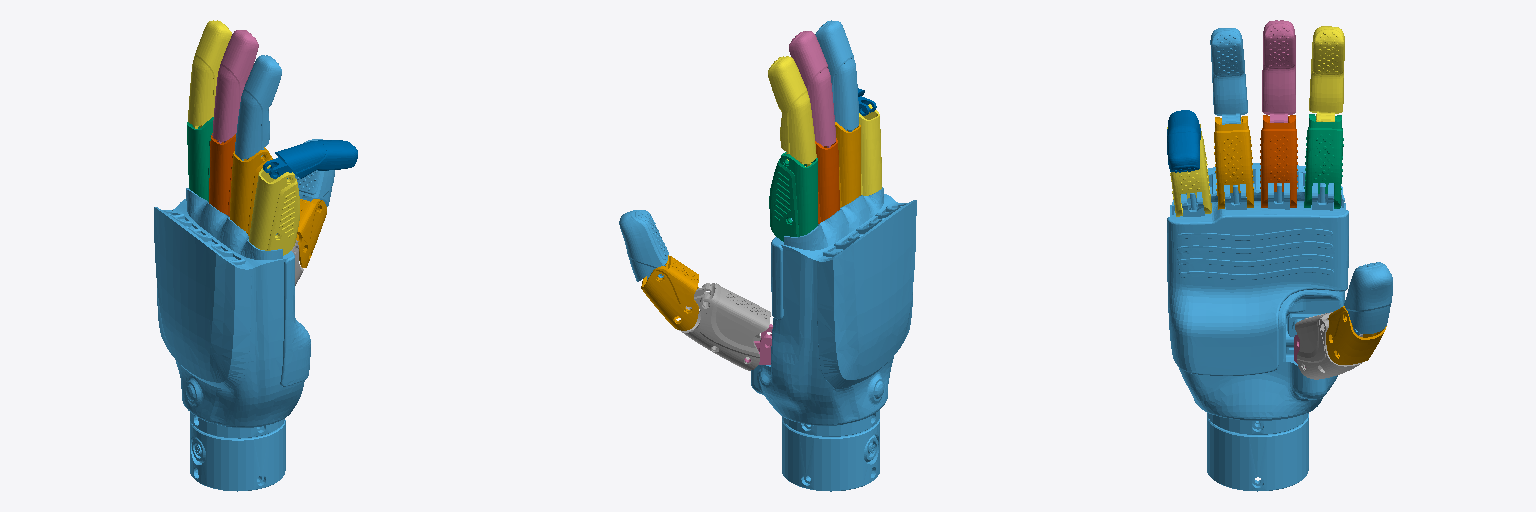
URDF robot description (inspire_hand_right):
<?xml version="1.0" encoding="UTF-8"?>
<robot name="inspire_hand_right">
  <!-- Extracted from franka_inspire_combined.urdf: Inspire hand only. -->
  <!-- ======================== -->
  <!-- Inspire Hand (joints)    -->
  <!-- ======================== -->
  <joint name="base_joint" type="fixed">
    <origin xyz="0. 0. 0.09" rpy="1.57 -0. -1.57"/>
    <parent link="inspire_hand_base"/>
    <child link="hand_base_link"/>
  </joint>
  <joint name="right_index_1_joint" type="revolute">
    <origin xyz="-0.040005 0.064623 -0.00345 " rpy="-1.5369525 -1.5707927 -3.1405327"/>
    <parent link="hand_base_link"/>
    <child link="right_index_1"/>
    <axis xyz="0. 1. 0."/>
    <limit lower="0." upper="1.47" effort="6." velocity="8.0000001"/>
  </joint>
  <joint name="right_index_2_joint" type="revolute">
    <origin xyz="-0.0016312 -0.00055 -0.032734 " rpy="0. 0. 0."/>
    <parent link="right_index_1"/>
    <child link="right_index_2"/>
    <axis xyz="0. 1. 0."/>
    <limit lower="0." upper="1.5435" effort="6." velocity="8.0000001"/>
    <mimic joint="right_index_1_joint" multiplier="1.05" offset="0.0"/>
  </joint>
  <joint name="index_tip_joint" type="fixed">
    <origin xyz="0. -0.006 -0.053575" rpy="0. 0. 0."/>
    <parent link="right_index_2"/>
    <child link="index_tip"/>
  </joint>
  <joint name="right_middle_1_joint" type="revolute">
    <origin xyz="-0.018426 0.065223 -0.00345 " rpy="-1.5544026 -1.5707927 3.1252024"/>
    <parent link="hand_base_link"/>
    <child link="right_middle_1"/>
    <axis xyz="0. 1. 0."/>
    <limit lower="0." upper="1.47" effort="6." velocity="8.0000001"/>
  </joint>
  <joint name="right_middle_2_joint" type="revolute">
    <origin xyz="-0.0028436 -0.00055 -0.032651 " rpy="0. 0. 0."/>
    <parent link="right_middle_1"/>
    <child link="right_middle_2"/>
    <axis xyz="0. 1. 0."/>
    <limit lower="0." upper="1.5435" effort="6." velocity="8.0000001"/>
    <mimic joint="right_middle_1_joint" multiplier="1.05" offset="0.0"/>
  </joint>
  <joint name="middle_tip_joint" type="fixed">
    <origin xyz="0. -0.006 -0.0572" rpy="0. 0. 0."/>
    <parent link="right_middle_2"/>
    <child link="middle_tip"/>
  </joint>
  <joint name="right_ring_1_joint" type="revolute">
    <origin xyz="0.0032044 0.065057 -0.00345 " rpy="-1.6217828 -1.5707927 3.1401827"/>
    <parent link="hand_base_link"/>
    <child link="right_ring_1"/>
    <axis xyz="0. 1. 0."/>
    <limit lower="0." upper="1.47" effort="6." velocity="8.0000001"/>
  </joint>
  <joint name="right_ring_2_joint" type="revolute">
    <origin xyz="-0.0031431 -0.00055 -0.032624 " rpy="0. 0. 0."/>
    <parent link="right_ring_1"/>
    <child link="right_ring_2"/>
    <axis xyz="0. 1. 0."/>
    <limit lower="0." upper="1.5435" effort="6." velocity="8.0000001"/>
    <mimic joint="right_ring_1_joint" multiplier="1.05" offset="0.0"/>
  </joint>
  <joint name="ring_tip_joint" type="fixed">
    <origin xyz="0. -0.006 -0.05365" rpy="0. 0. 0."/>
    <parent link="right_ring_2"/>
    <child link="ring_tip"/>
  </joint>
  <joint name="right_little_1_joint" type="revolute">
    <origin xyz="0.02459 0.061875 -0.00345 " rpy="-1.6722852 -1.5707927 3.1383853"/>
    <parent link="hand_base_link"/>
    <child link="right_little_1"/>
    <axis xyz="0. 1. 0."/>
    <limit lower="0." upper="1.47" effort="6." velocity="8.0000001"/>
  </joint>
  <joint name="right_little_2_joint" type="revolute">
    <origin xyz="-0.005182 -0.00055 -0.032363" rpy="0. 0.0000036 0."/>
    <parent link="right_little_1"/>
    <child link="right_little_2"/>
    <axis xyz="0. 1. 0."/>
    <limit lower="0." upper="1.5435" effort="6." velocity="8.0000001"/>
    <mimic joint="right_little_1_joint" multiplier="1.05" offset="0.0"/>
  </joint>
  <joint name="little_tip_joint" type="fixed">
    <origin xyz="0.0045 -0.006 -0.04365" rpy="0. 1.5707963 0."/>
    <parent link="right_little_2"/>
    <child link="little_tip"/>
  </joint>
  <joint name="right_thumb_1_joint" type="revolute">
    <origin xyz="-0.028226 -0.0227776 -0.0239 " rpy="0. 0. 0."/>
    <parent link="hand_base_link"/>
    <child link="right_thumb_1"/>
    <axis xyz="0. 1. 0."/>
    <limit lower="-1.2" upper="-0.3" effort="6." velocity="8.0000001"/>
  </joint>
  <joint name="right_thumb_2_joint" type="revolute">
    <origin xyz="-0.0063016 0.003 -0.011924 " rpy="-1.5707928 0.3490927 3.1065927"/>
    <parent link="right_thumb_1"/>
    <child link="right_thumb_2"/>
    <axis xyz="0. 1. 0."/>
    <limit lower="0.14" upper="0.56" effort="6." velocity="8.0000001"/>
  </joint>
  <joint name="right_thumb_3_joint" type="revolute">
    <origin xyz="0.038292 -0.0015 -0.014535" rpy="0. -0.25 0."/>
    <parent link="right_thumb_2"/>
    <child link="right_thumb_3"/>
    <axis xyz="0. 1. 0."/>
    <limit lower="0.056" upper="0.224" effort="6." velocity="8.0000001"/>
    <mimic joint="right_thumb_2_joint" multiplier="0.4" offset="0.0"/>
  </joint>
  <joint name="right_thumb_4_joint" type="revolute">
    <origin xyz="0.018189 -0.0002 -0.012576" rpy="0. -0.15 0."/>
    <parent link="right_thumb_3"/>
    <child link="right_thumb_4"/>
    <axis xyz="0. 1. 0."/>
    <limit lower="0.084" upper="0.336" effort="6." velocity="8.0000001"/>
    <mimic joint="right_thumb_2_joint" multiplier="0.6" offset="0.0"/>
  </joint>
  <joint name="thumb_tip_joint" type="fixed">
    <origin xyz="0.0268 -0.007 -0.023 " rpy="0. 0. 0."/>
    <parent link="right_thumb_4"/>
    <child link="thumb_tip"/>
  </joint>
  <!-- ======================== -->
  <!-- Inspire Hand (links)     -->
  <!-- ======================== -->
  <link name="inspire_hand_base"/>
  <link name="hand_base_link">
    <inertial>
      <origin xyz="0. 0. 0." rpy="0. 0. 0."/>
      <mass value="0.2"/>
      <inertia ixx="0." ixy="0." ixz="0." iyy="0." iyz="0." izz="0."/>
    </inertial>
    <visual>
      <origin xyz="0. 0. 0." rpy="0. 0. 0."/>
      <geometry>
        <mesh filename="./meshes/hand_base_link_visuals.obj" scale="1. 1. 1."/>
      </geometry>
    </visual>
    <visual>
      <origin xyz="0. 0. 0." rpy="0. 0. 0."/>
      <geometry>
        <mesh filename="./meshes/hand_base_link_collisions.obj" scale="1. 1. 1."/>
      </geometry>
    </visual>
    <collision>
      <origin xyz="0. 0. 0." rpy="0. 0. 0."/>
      <geometry>
        <mesh filename="./meshes/hand_base_link_collisions.obj" scale="1. 1. 1."/>
      </geometry>
    </collision>
  </link>
  <link name="right_index_1">
    <inertial>
      <origin xyz="0. 0. 0." rpy="0. 0. 0."/>
      <mass value="0.0063589"/>
      <inertia ixx="0." ixy="0." ixz="0." iyy="0." iyz="0." izz="0."/>
    </inertial>
    <visual>
      <origin xyz="0. 0. 0." rpy="0. 0. 0."/>
      <geometry>
        <mesh filename="./meshes/right_index_1_visuals.obj" scale="1. 1. 1."/>
      </geometry>
    </visual>
    <visual>
      <origin xyz="0. 0. 0." rpy="0. 0. 0."/>
      <geometry>
        <mesh filename="./meshes/right_index_1_collisions.obj" scale="1. 1. 1."/>
      </geometry>
    </visual>
    <collision>
      <origin xyz="0. 0. 0." rpy="0. 0. 0."/>
      <geometry>
        <mesh filename="./meshes/right_index_1_collisions.obj" scale="1. 1. 1."/>
      </geometry>
    </collision>
  </link>
  <link name="right_index_2">
    <inertial>
      <origin xyz="0. 0. 0." rpy="0. 0. 0."/>
      <mass value="0.00645"/>
      <inertia ixx="0." ixy="0." ixz="0." iyy="0." iyz="0." izz="0."/>
    </inertial>
    <visual>
      <origin xyz="0. 0. 0." rpy="0. 0. 0."/>
      <geometry>
        <mesh filename="./meshes/right_index_2_visuals.obj" scale="1. 1. 1."/>
      </geometry>
    </visual>
    <visual>
      <origin xyz="0. 0. 0." rpy="0. 0. 0."/>
      <geometry>
        <mesh filename="./meshes/right_index_2_collisions.obj" scale="1. 1. 1."/>
      </geometry>
    </visual>
    <collision>
      <origin xyz="0. 0. 0." rpy="0. 0. 0."/>
      <geometry>
        <mesh filename="./meshes/right_index_2_collisions.obj" scale="1. 1. 1."/>
      </geometry>
    </collision>
  </link>
  <link name="index_tip">
    <inertial>
      <origin xyz="0. 0. 0." rpy="0. 0. 0."/>
      <mass value="0.000001"/>
      <inertia ixx="0." ixy="0." ixz="0." iyy="0." iyz="0." izz="0."/>
    </inertial>
  </link>
  <link name="right_middle_1">
    <inertial>
      <origin xyz="0. 0. 0." rpy="0. 0. 0."/>
      <mass value="0.0063589"/>
      <inertia ixx="0." ixy="0." ixz="0." iyy="0." iyz="0." izz="0."/>
    </inertial>
    <visual>
      <origin xyz="0. 0. 0." rpy="0. 0. 0."/>
      <geometry>
        <mesh filename="./meshes/right_middle_1_visuals.obj" scale="1. 1. 1."/>
      </geometry>
    </visual>
    <visual>
      <origin xyz="0. 0. 0." rpy="0. 0. 0."/>
      <geometry>
        <mesh filename="./meshes/right_middle_1_collisions.obj" scale="1. 1. 1."/>
      </geometry>
    </visual>
    <collision>
      <origin xyz="0. 0. 0." rpy="0. 0. 0."/>
      <geometry>
        <mesh filename="./meshes/right_middle_1_collisions.obj" scale="1. 1. 1."/>
      </geometry>
    </collision>
  </link>
  <link name="right_middle_2">
    <inertial>
      <origin xyz="0. 0. 0." rpy="0. 0. 0."/>
      <mass value="0.00645"/>
      <inertia ixx="0." ixy="0." ixz="0." iyy="0." iyz="0." izz="0."/>
    </inertial>
    <visual>
      <origin xyz="0. 0. 0." rpy="0. 0. 0."/>
      <geometry>
        <mesh filename="./meshes/right_middle_2_visuals.obj" scale="1. 1. 1."/>
      </geometry>
    </visual>
    <visual>
      <origin xyz="0. 0. 0." rpy="0. 0. 0."/>
      <geometry>
        <mesh filename="./meshes/right_middle_2_collisions.obj" scale="1. 1. 1."/>
      </geometry>
    </visual>
    <collision>
      <origin xyz="0. 0. 0." rpy="0. 0. 0."/>
      <geometry>
        <mesh filename="./meshes/right_middle_2_collisions.obj" scale="1. 1. 1."/>
      </geometry>
    </collision>
  </link>
  <link name="middle_tip">
    <inertial>
      <origin xyz="0. 0. 0." rpy="0. 0. 0."/>
      <mass value="0.000001"/>
      <inertia ixx="0." ixy="0." ixz="0." iyy="0." iyz="0." izz="0."/>
    </inertial>
  </link>
  <link name="right_ring_1">
    <inertial>
      <origin xyz="0. 0. 0." rpy="0. 0. 0."/>
      <mass value="0.0063589"/>
      <inertia ixx="0." ixy="0." ixz="0." iyy="0." iyz="0." izz="0."/>
    </inertial>
    <visual>
      <origin xyz="0. 0. 0." rpy="0. 0. 0."/>
      <geometry>
        <mesh filename="./meshes/right_ring_1_visuals.obj" scale="1. 1. 1."/>
      </geometry>
    </visual>
    <visual>
      <origin xyz="0. 0. 0." rpy="0. 0. 0."/>
      <geometry>
        <mesh filename="./meshes/right_ring_1_collisions.obj" scale="1. 1. 1."/>
      </geometry>
    </visual>
    <collision>
      <origin xyz="0. 0. 0." rpy="0. 0. 0."/>
      <geometry>
        <mesh filename="./meshes/right_ring_1_collisions.obj" scale="1. 1. 1."/>
      </geometry>
    </collision>
  </link>
  <link name="right_ring_2">
    <inertial>
      <origin xyz="0. 0. 0." rpy="0. 0. 0."/>
      <mass value="0.00645"/>
      <inertia ixx="0." ixy="0." ixz="0." iyy="0." iyz="0." izz="0."/>
    </inertial>
    <visual>
      <origin xyz="0. 0. 0." rpy="0. 0. 0."/>
      <geometry>
        <mesh filename="./meshes/right_ring_2_visuals.obj" scale="1. 1. 1."/>
      </geometry>
    </visual>
    <visual>
      <origin xyz="0. 0. 0." rpy="0. 0. 0."/>
      <geometry>
        <mesh filename="./meshes/right_ring_2_collisions.obj" scale="1. 1. 1."/>
      </geometry>
    </visual>
    <collision>
      <origin xyz="0. 0. 0." rpy="0. 0. 0."/>
      <geometry>
        <mesh filename="./meshes/right_ring_2_collisions.obj" scale="1. 1. 1."/>
      </geometry>
    </collision>
  </link>
  <link name="ring_tip">
    <inertial>
      <origin xyz="0. 0. 0." rpy="0. 0. 0."/>
      <mass value="0.000001"/>
      <inertia ixx="0." ixy="0." ixz="0." iyy="0." iyz="0." izz="0."/>
    </inertial>
  </link>
  <link name="right_little_1">
    <inertial>
      <origin xyz="0. 0. 0." rpy="0. 0. 0."/>
      <mass value="0.0063589"/>
      <inertia ixx="0." ixy="0." ixz="0." iyy="0." iyz="0." izz="0."/>
    </inertial>
    <visual>
      <origin xyz="0. 0. 0." rpy="0. 0. 0."/>
      <geometry>
        <mesh filename="./meshes/right_little_1_visuals.obj" scale="1. 1. 1."/>
      </geometry>
    </visual>
    <visual>
      <origin xyz="0. 0. 0." rpy="0. 0. 0."/>
      <geometry>
        <mesh filename="./meshes/right_little_1_collisions.obj" scale="1. 1. 1."/>
      </geometry>
    </visual>
    <collision>
      <origin xyz="0. 0. 0." rpy="0. 0. 0."/>
      <geometry>
        <mesh filename="./meshes/right_little_1_collisions.obj" scale="1. 1. 1."/>
      </geometry>
    </collision>
  </link>
  <link name="right_little_2">
    <inertial>
      <origin xyz="0. 0. 0." rpy="0. 1.5707963 0."/>
      <mass value="0.00645"/>
      <inertia ixx="0." ixy="0." ixz="0." iyy="0." iyz="0." izz="0."/>
    </inertial>
    <visual>
      <origin xyz="0. 0. 0." rpy="0. 1.5707963 0."/>
      <geometry>
        <mesh filename="./meshes/right_little_2_visuals.obj" scale="1. 1. 1."/>
      </geometry>
    </visual>
    <visual>
      <origin xyz="0. 0. 0." rpy="0. 1.5707963 0."/>
      <geometry>
        <mesh filename="./meshes/right_little_2_collisions.obj" scale="1. 1. 1."/>
      </geometry>
    </visual>
    <collision>
      <origin xyz="0. 0. 0." rpy="0. 1.5707963 0."/>
      <geometry>
        <mesh filename="./meshes/right_little_2_collisions.obj" scale="1. 1. 1."/>
      </geometry>
    </collision>
  </link>
  <link name="little_tip">
    <inertial>
      <origin xyz="0. 0. 0." rpy="0. 0. 0."/>
      <mass value="0.000001"/>
      <inertia ixx="0." ixy="0." ixz="0." iyy="0." iyz="0." izz="0."/>
    </inertial>
  </link>
  <link name="right_thumb_1">
    <inertial>
      <origin xyz="0. 0. 0." rpy="0. 0. 0."/>
      <mass value="0.0026834"/>
      <inertia ixx="0." ixy="0." ixz="0." iyy="0." iyz="0." izz="0."/>
    </inertial>
    <visual>
      <origin xyz="0. 0. 0." rpy="0. 0. 0."/>
      <geometry>
        <mesh filename="./meshes/right_thumb_1_visuals.obj" scale="1. 1. 1."/>
      </geometry>
    </visual>
    <visual>
      <origin xyz="0. 0. 0." rpy="0. 0. 0."/>
      <geometry>
        <mesh filename="./meshes/right_thumb_1_collisions.obj" scale="1. 1. 1."/>
      </geometry>
    </visual>
    <collision>
      <origin xyz="0. 0. 0." rpy="0. 0. 0."/>
      <geometry>
        <mesh filename="./meshes/right_thumb_1_collisions.obj" scale="1. 1. 1."/>
      </geometry>
    </collision>
  </link>
  <link name="right_thumb_2">
    <inertial>
      <origin xyz="0. 0. 0." rpy="0. 0. 0."/>
      <mass value="0.0055"/>
      <inertia ixx="0." ixy="0." ixz="0." iyy="0." iyz="0." izz="0."/>
    </inertial>
    <visual>
      <origin xyz="0. 0. 0." rpy="0. 0. 0."/>
      <geometry>
        <mesh filename="./meshes/right_thumb_2_visuals.obj" scale="1. 1. 1."/>
      </geometry>
    </visual>
    <visual>
      <origin xyz="0. 0. 0." rpy="0. 0. 0."/>
      <geometry>
        <mesh filename="./meshes/right_thumb_2_collisions.obj" scale="1. 1. 1."/>
      </geometry>
    </visual>
    <collision>
      <origin xyz="0. 0. 0." rpy="0. 0. 0."/>
      <geometry>
        <mesh filename="./meshes/right_thumb_2_collisions.obj" scale="1. 1. 1."/>
      </geometry>
    </collision>
  </link>
  <link name="right_thumb_3">
    <inertial>
      <origin xyz="0. 0. 0." rpy="0. 0. 0."/>
      <mass value="0.0055"/>
      <inertia ixx="0." ixy="0." ixz="0." iyy="0." iyz="0." izz="0."/>
    </inertial>
    <visual>
      <origin xyz="0. 0. 0." rpy="0. 0. 0."/>
      <geometry>
        <mesh filename="./meshes/right_thumb_3_visuals.obj" scale="1. 1. 1."/>
      </geometry>
    </visual>
    <visual>
      <origin xyz="0. 0. 0." rpy="0. 0. 0."/>
      <geometry>
        <mesh filename="./meshes/right_thumb_3_collisions.obj" scale="1. 1. 1."/>
      </geometry>
    </visual>
    <collision>
      <origin xyz="0. 0. 0." rpy="0. 0. 0."/>
      <geometry>
        <mesh filename="./meshes/right_thumb_3_collisions.obj" scale="1. 1. 1."/>
      </geometry>
    </collision>
  </link>
  <link name="right_thumb_4">
    <inertial>
      <origin xyz="0. 0. 0." rpy="0. 0. 0."/>
      <mass value="0.0055"/>
      <inertia ixx="0." ixy="0." ixz="0." iyy="0." iyz="0." izz="0."/>
    </inertial>
    <visual>
      <origin xyz="0. 0. 0." rpy="0. 0. 0."/>
      <geometry>
        <mesh filename="./meshes/right_thumb_4_visuals.obj" scale="1. 1. 1."/>
      </geometry>
    </visual>
    <visual>
      <origin xyz="0. 0. 0." rpy="0. 0. 0."/>
      <geometry>
        <mesh filename="./meshes/right_thumb_4_collisions.obj" scale="1. 1. 1."/>
      </geometry>
    </visual>
    <collision>
      <origin xyz="0. 0. 0." rpy="0. 0. 0."/>
      <geometry>
        <mesh filename="./meshes/right_thumb_4_collisions.obj" scale="1. 1. 1."/>
      </geometry>
    </collision>
  </link>
  <link name="thumb_tip">
    <inertial>
      <origin xyz="0. 0. 0." rpy="0. 0. 0."/>
      <mass value="0.000001"/>
      <inertia ixx="0." ixy="0." ixz="0." iyy="0." iyz="0." izz="0."/>
    </inertial>
  </link>
</robot>

--- Facts derived from the render (not from the file) ---
3 views of the same robot in one strip: view 1: azimuth 30°, elevation 25°; view 2: azimuth 150°, elevation 25°; view 3: azimuth 270°, elevation 25° (orthographic).
Model inspire_hand_right with 19 links and 18 joints (12 revolute, 6 fixed), rooted at inspire_hand_base, posed joints at zero except 4 at the middle of their limits (right_thumb_1_joint = -0.75, right_thumb_2_joint = 0.35, right_thumb_3_joint = 0.14, right_thumb_4_joint = 0.21).
Links seen in each view (by area): view 1: hand_base_link, right_little_1, right_ring_2, right_middle_2, right_index_2, right_little_2, right_ring_1, right_middle_1, right_index_1, right_thumb_3, right_thumb_4; view 2: hand_base_link, right_thumb_2, right_index_1, right_index_2, right_middle_2, right_ring_2, right_thumb_3, right_thumb_4, right_ring_1, right_little_1, right_middle_1; view 3: hand_base_link, right_middle_2, right_ring_2, right_index_2, right_thumb_4, right_index_1, right_ring_1, right_middle_1, right_thumb_2, right_thumb_3, right_little_2, right_little_1.
Boxes of the visible links, bbox=[...] form: hand_base_link: bbox=[154, 188, 310, 491]; right_little_1: bbox=[249, 165, 299, 255]; right_ring_2: bbox=[235, 55, 281, 160]; right_middle_2: bbox=[212, 30, 258, 143]; right_index_2: bbox=[188, 20, 231, 128]; right_little_2: bbox=[263, 140, 357, 178]; right_ring_1: bbox=[230, 147, 272, 235]; right_middle_1: bbox=[209, 133, 235, 216]; right_index_1: bbox=[187, 117, 213, 201]; right_thumb_3: bbox=[296, 199, 326, 267]; right_thumb_4: bbox=[295, 139, 334, 206]; hand_base_link: bbox=[751, 187, 916, 491]; right_thumb_2: bbox=[679, 283, 770, 370]; right_index_1: bbox=[769, 152, 817, 241]; right_index_2: bbox=[768, 56, 816, 166]; right_middle_2: bbox=[789, 31, 835, 147]; right_ring_2: bbox=[815, 20, 858, 131]; right_thumb_3: bbox=[641, 255, 698, 330]; right_thumb_4: bbox=[619, 210, 668, 281]; right_ring_1: bbox=[835, 122, 860, 207]; right_little_1: bbox=[859, 104, 881, 195]; right_middle_1: bbox=[815, 138, 839, 223]; hand_base_link: bbox=[1167, 163, 1348, 491]; right_middle_2: bbox=[1262, 20, 1295, 122]; right_ring_2: bbox=[1210, 28, 1247, 124]; right_index_2: bbox=[1309, 26, 1344, 121]; right_thumb_4: bbox=[1344, 262, 1392, 334]; right_index_1: bbox=[1304, 114, 1343, 208]; right_ring_1: bbox=[1214, 116, 1253, 209]; right_middle_1: bbox=[1260, 115, 1297, 207]; right_thumb_2: bbox=[1295, 312, 1362, 379]; right_thumb_3: bbox=[1326, 306, 1386, 364]; right_little_2: bbox=[1167, 110, 1200, 172]; right_little_1: bbox=[1167, 124, 1211, 216].
Size in the robot's own frame: 0.1251 by 0.111 by 0.2469 metres.
Meshes: 26 distinct files referenced, 13 mesh visuals loaded (13 OBJ); not drawn: 13 (reference not matched to a file when rendering).
